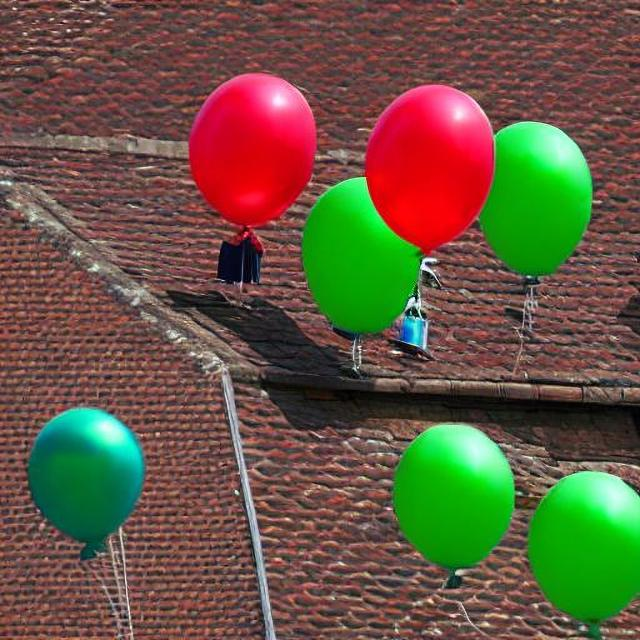balloon: (316, 71, 608, 345), (180, 72, 316, 230), (381, 422, 520, 576), (517, 465, 636, 630), (22, 403, 145, 558)
